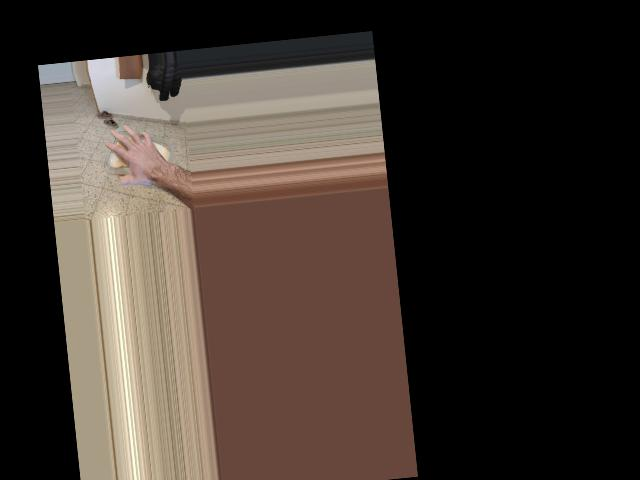cheese: (102, 122, 174, 193)
